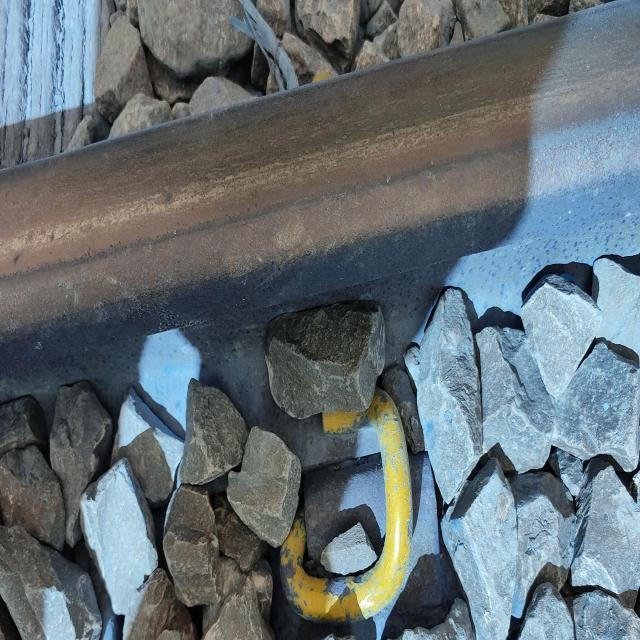Good Fasteners: (280, 389, 440, 638)
